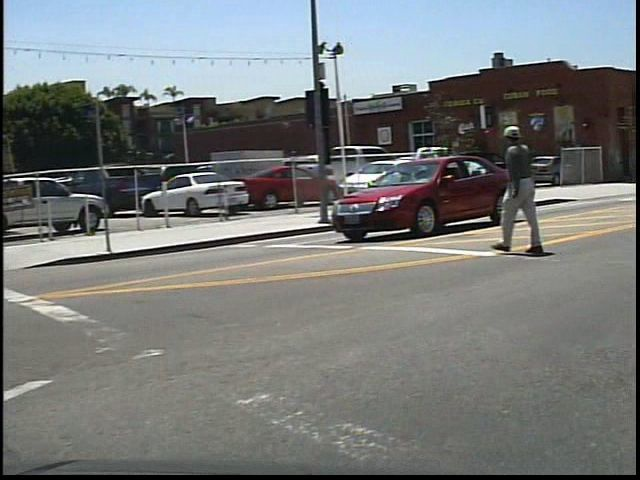person: (499, 115, 560, 263)
